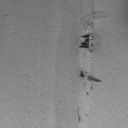slag inclusion: (78, 0, 109, 30), (78, 32, 94, 53), (78, 70, 103, 83), (77, 105, 82, 122)
